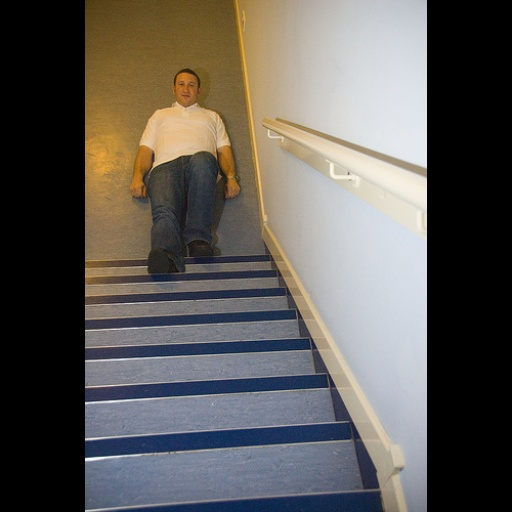Stairs: (86, 255, 383, 512)
